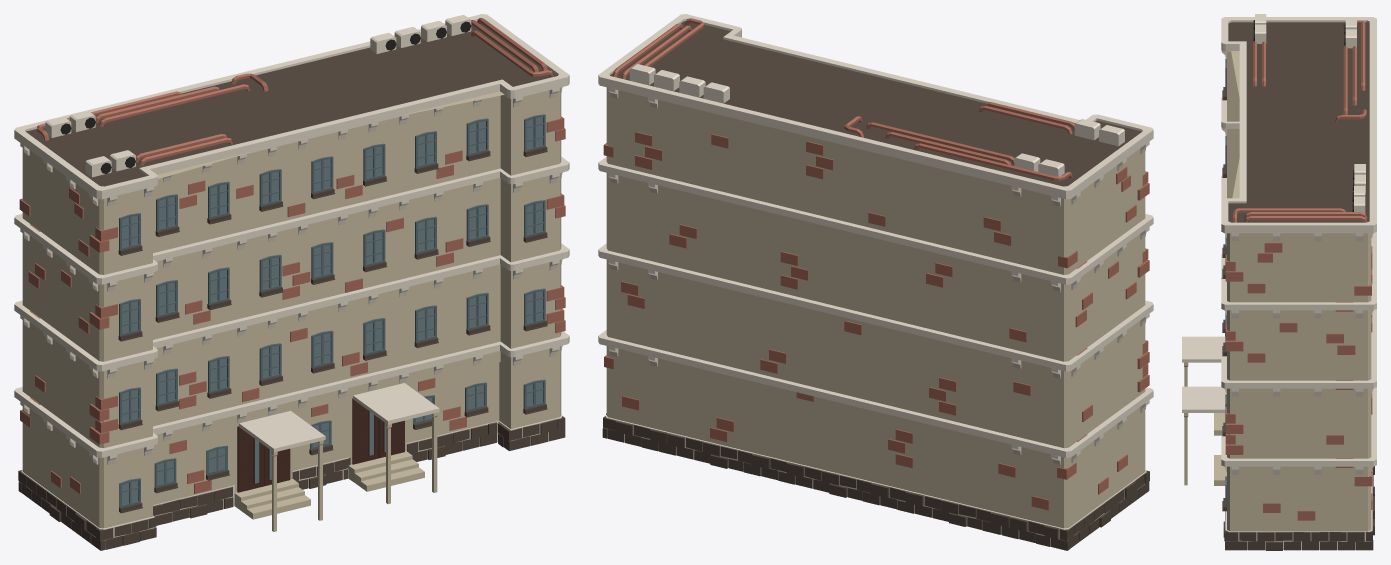
The model's file is cairo-office-block.glb.
3 renders of one model, left to right at view 1: azimuth 30°, elevation 25°; view 2: azimuth 150°, elevation 25°; view 3: azimuth 270°, elevation 25°, orthographic. The views are drawn at different scales.
Bounding box in the file's own units: 6.83 × 5.15 × 2.7.
